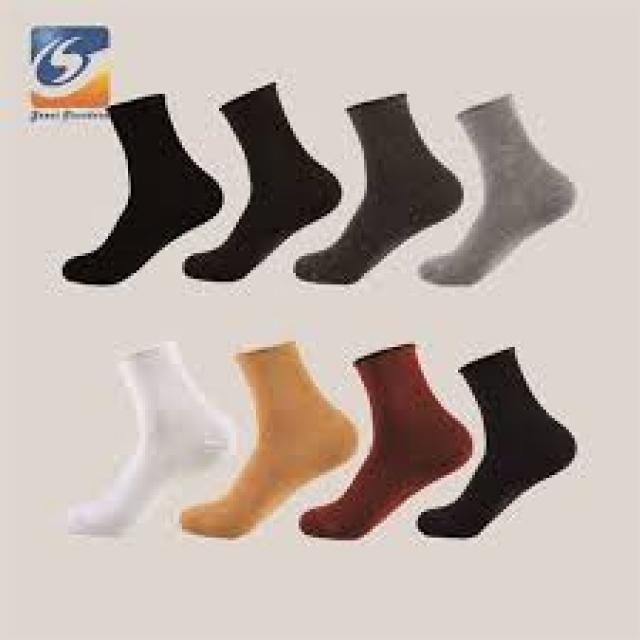sock: (179, 338, 356, 538), (299, 341, 472, 538), (293, 91, 461, 284), (66, 338, 230, 535), (182, 80, 341, 282), (60, 91, 222, 284), (415, 344, 575, 538), (415, 91, 575, 284)
